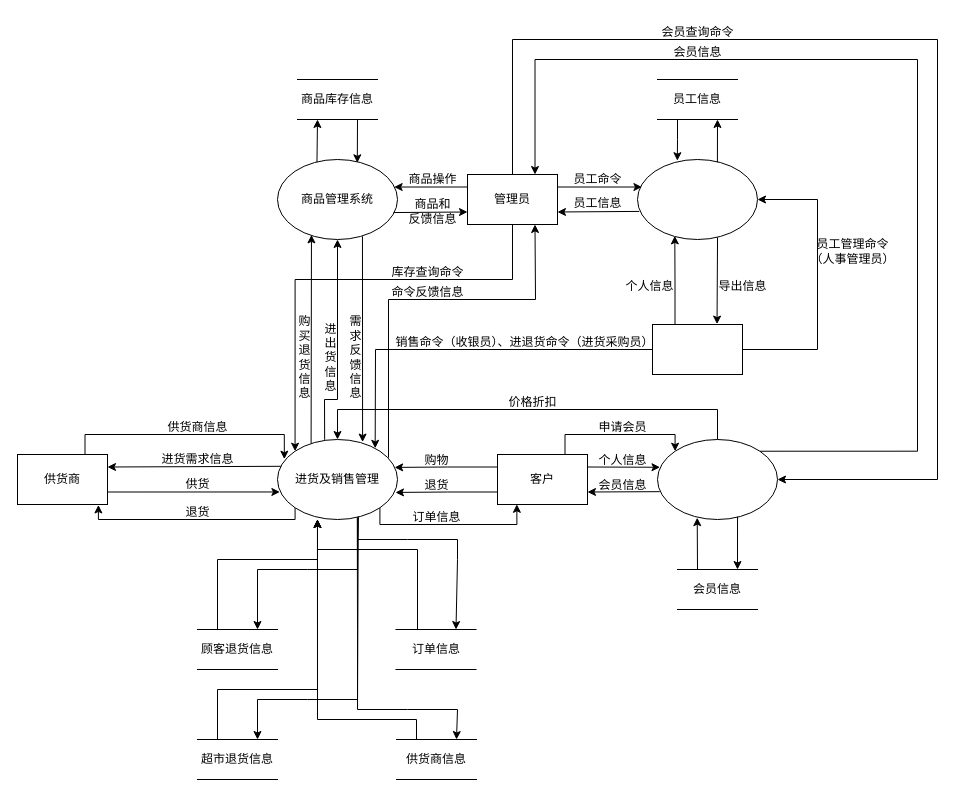
The diagram is 963 pixels wide and 797 high, and some of its shapes have lost their labels. The shapes that lost their labels are listed below. From the top down, each one's centre as x and y in pixels, then its label:
the point at 697,199: 员工管理
the point at 697,349: 员工
the point at 717,479: 会员管理
